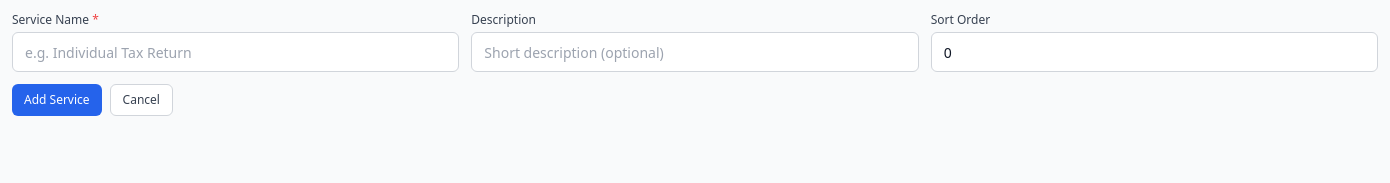
[AC-DASH-010-01] add form submits to createServiceAction › displays error message when createServiceAction returns { success: false }
In the field labelled "Service Name *": [236, 52] box [12,32,459,72], type "Some Service"
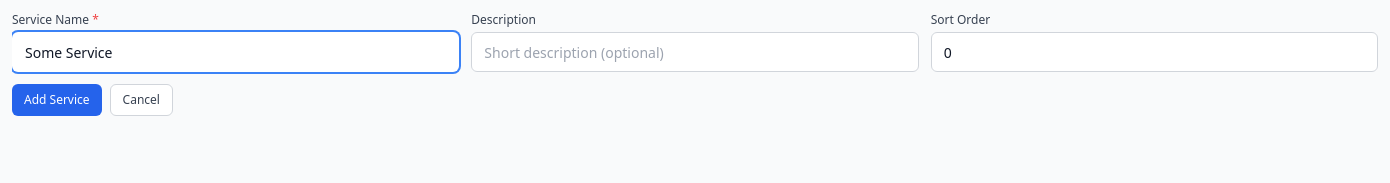
Click the button "Add Service": [57, 100] box [12,84,102,116]
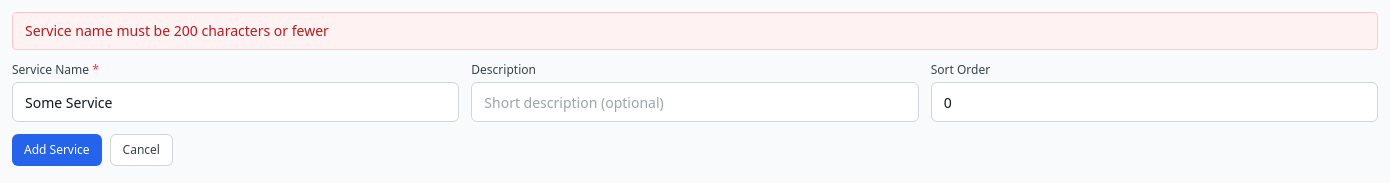
Check: the message reads "Service name must be 200 characters or fewer", box [25,21,329,40]
